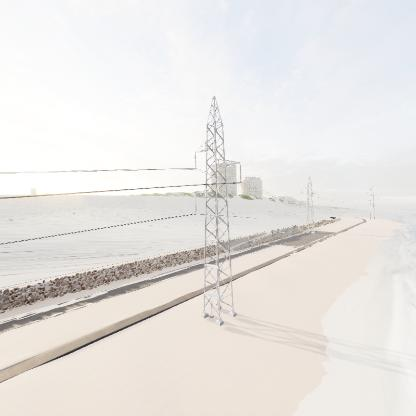tower: (192, 91, 243, 326)
